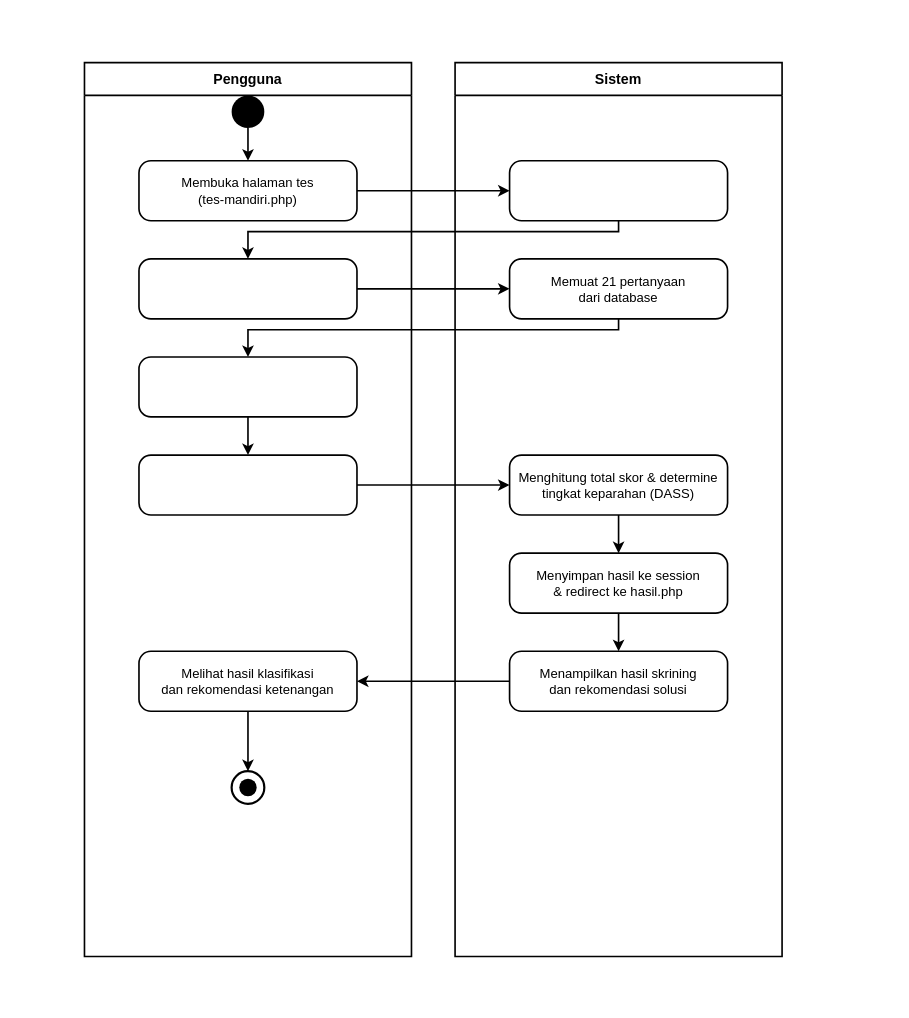
Some shapes in this 909 by 1018 pixel diagram are drawn without their labels. Here are the shapes that lost their labels. From the top down, the centre of each, then its label:
(618,190): Menampilkan halaman skrining awal
(247,288): Klik tombol "Mulai Skrining Sekarang"
(247,386): Mengisi kuesioner dengan pilihan skala 0 s/d 3
(247,484): Klik tombol "Kirim Hasil"
